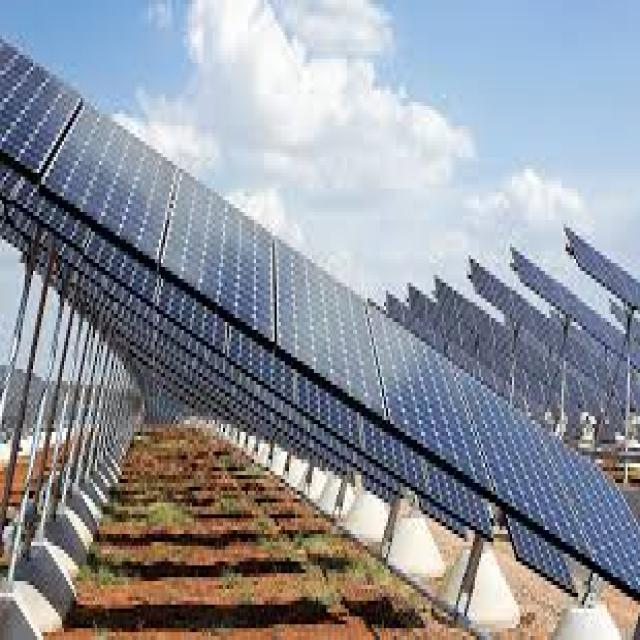clean-solar-panel: (0, 43, 640, 593)
